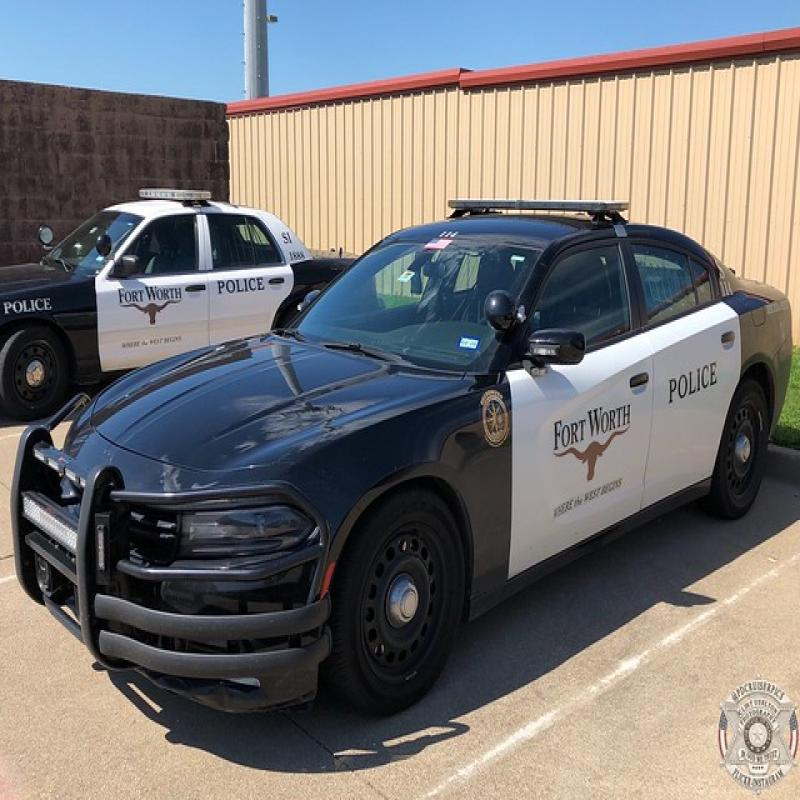AmbulanceSiren: (433, 176, 642, 238), (128, 178, 224, 214)
